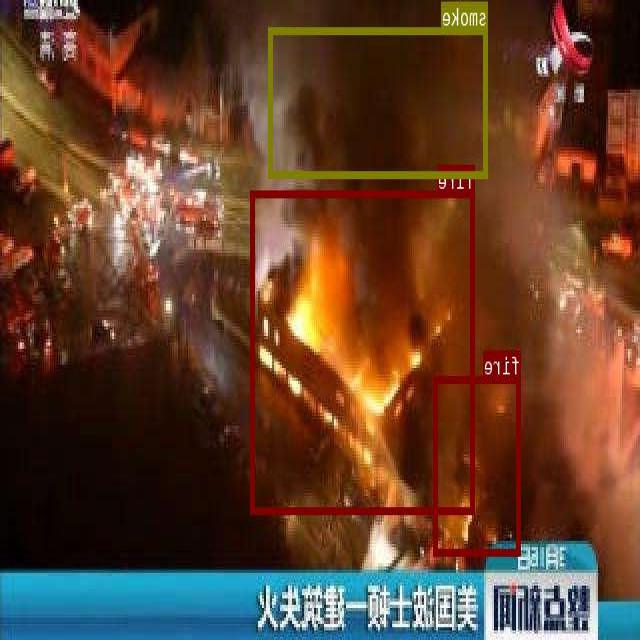fire: (252, 190, 475, 514), (434, 374, 522, 554)
smoke: (270, 27, 488, 177)
